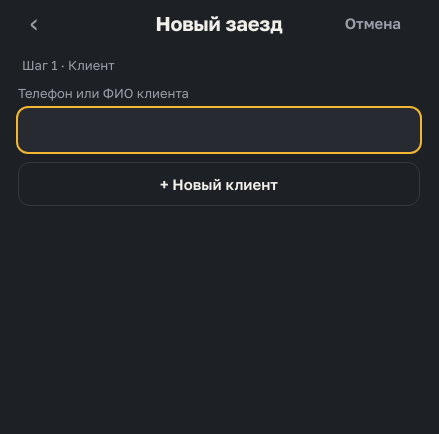
Test: editing the mileage after a rollback warning re-checks it instead of auto-confirming
Type "Петров" into the field labelled "Телефон или ФИО клиента" at (219,130), box x1=18 y1=108 x2=420 y2=152
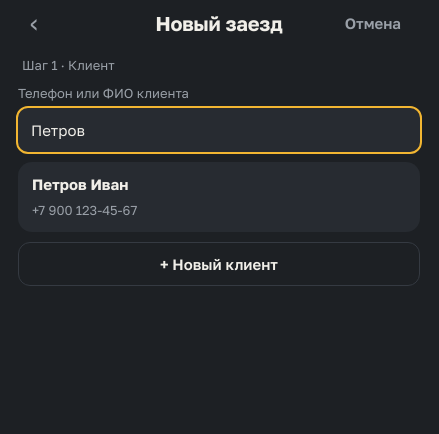
Click the button "Петров Иван +7 900 123-45-67" at (80,184), box x1=18 y1=162 x2=420 y2=232
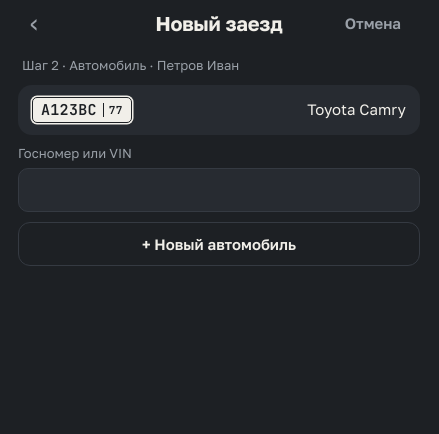
Click the button "А123ВС 77 Toyota Camry" at (82,110), box x1=18 y1=84 x2=420 y2=134
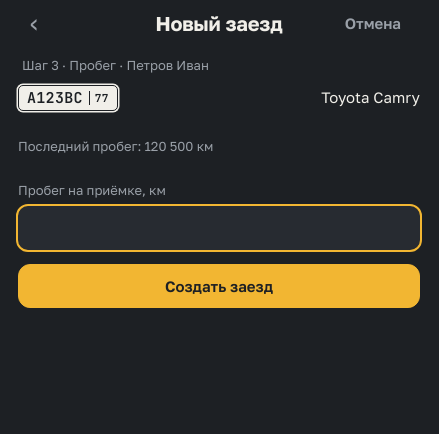
Type "1000" into the field labelled "Пробег на приёмке, км" at (219,228), box x1=18 y1=206 x2=420 y2=250
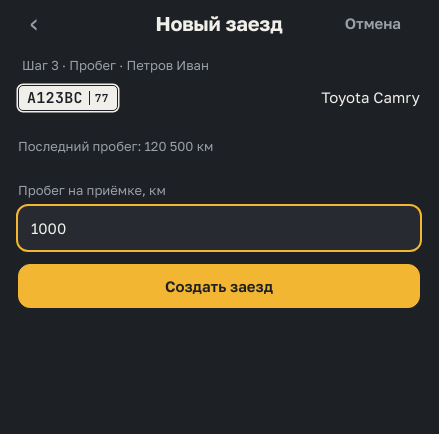
Click the button "Создать заезд" at (219,286), box x1=18 y1=264 x2=420 y2=308
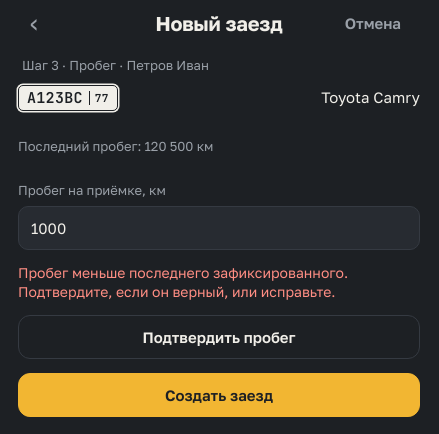
Check: the button "Подтвердить пробег" is shown, box x1=18 y1=315 x2=420 y2=359
Type "5" into the field labelled "Пробег на приёмке, км" at (219,228), box x1=18 y1=206 x2=420 y2=250
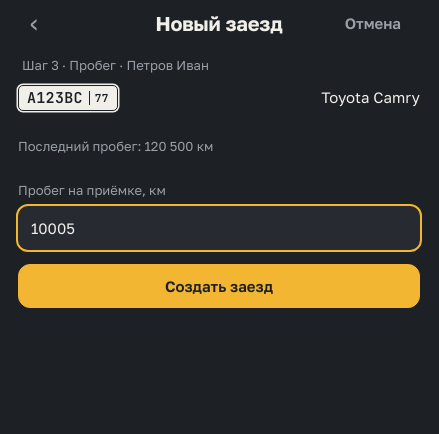
Check: the button "Подтвердить пробег" is gone
